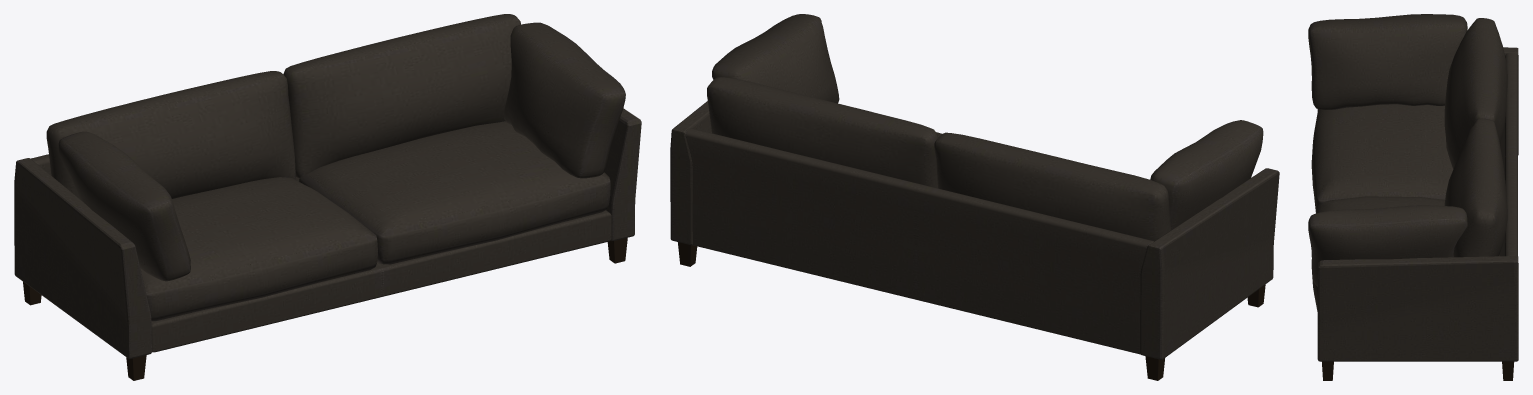
Rendered from sofa-charcoal.glb.
The picture shows the model from 3 angles, left to right: view 1: azimuth 30°, elevation 25°; view 2: azimuth 150°, elevation 25°; view 3: azimuth 270°, elevation 25°; orthographic projection. The views are drawn at different scales.
Visible parts, largest first — view 1: RootNode; view 2: RootNode; view 3: RootNode.
Part boxes in pixels (<box>): RootNode: <box>14,14,641,380</box>; RootNode: <box>670,14,1279,380</box>; RootNode: <box>1308,14,1518,380</box>.
Size of the model in its own units: 2.34 by 0.8 by 0.94.
1 material, 1 textured.
